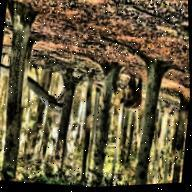boar: (117, 74, 144, 115)
